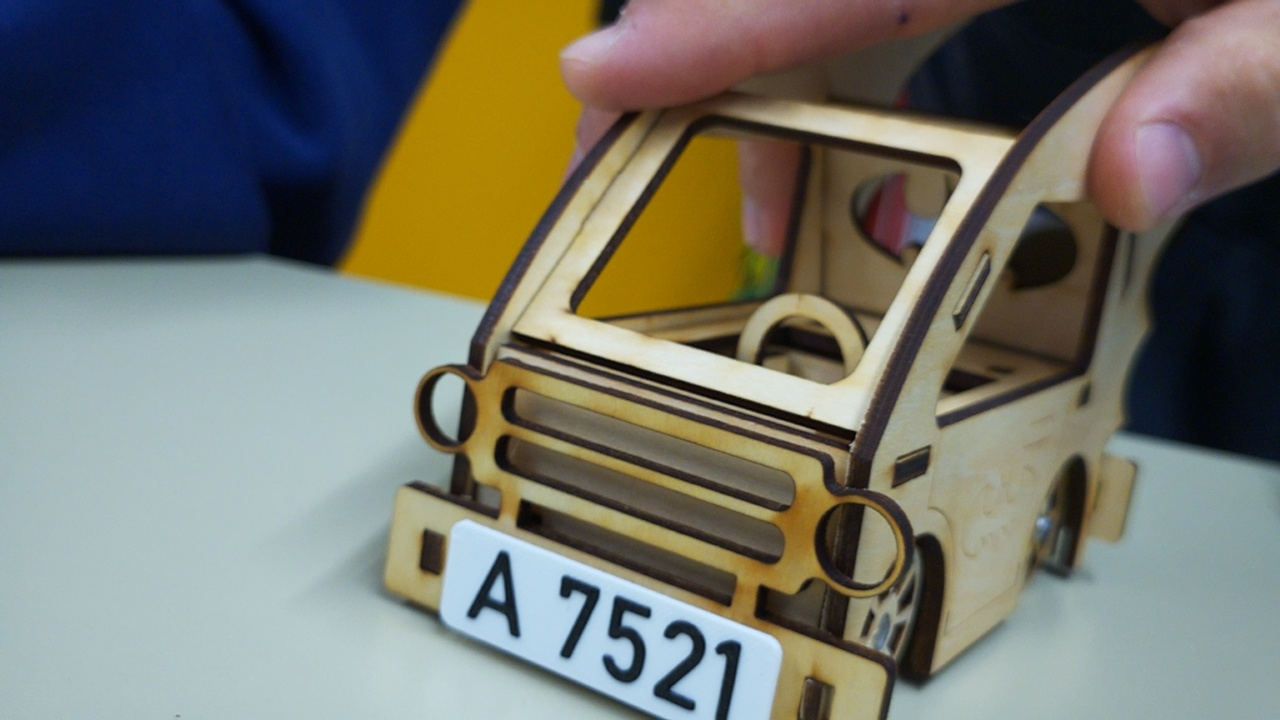license_plate: (433, 516, 791, 720)
